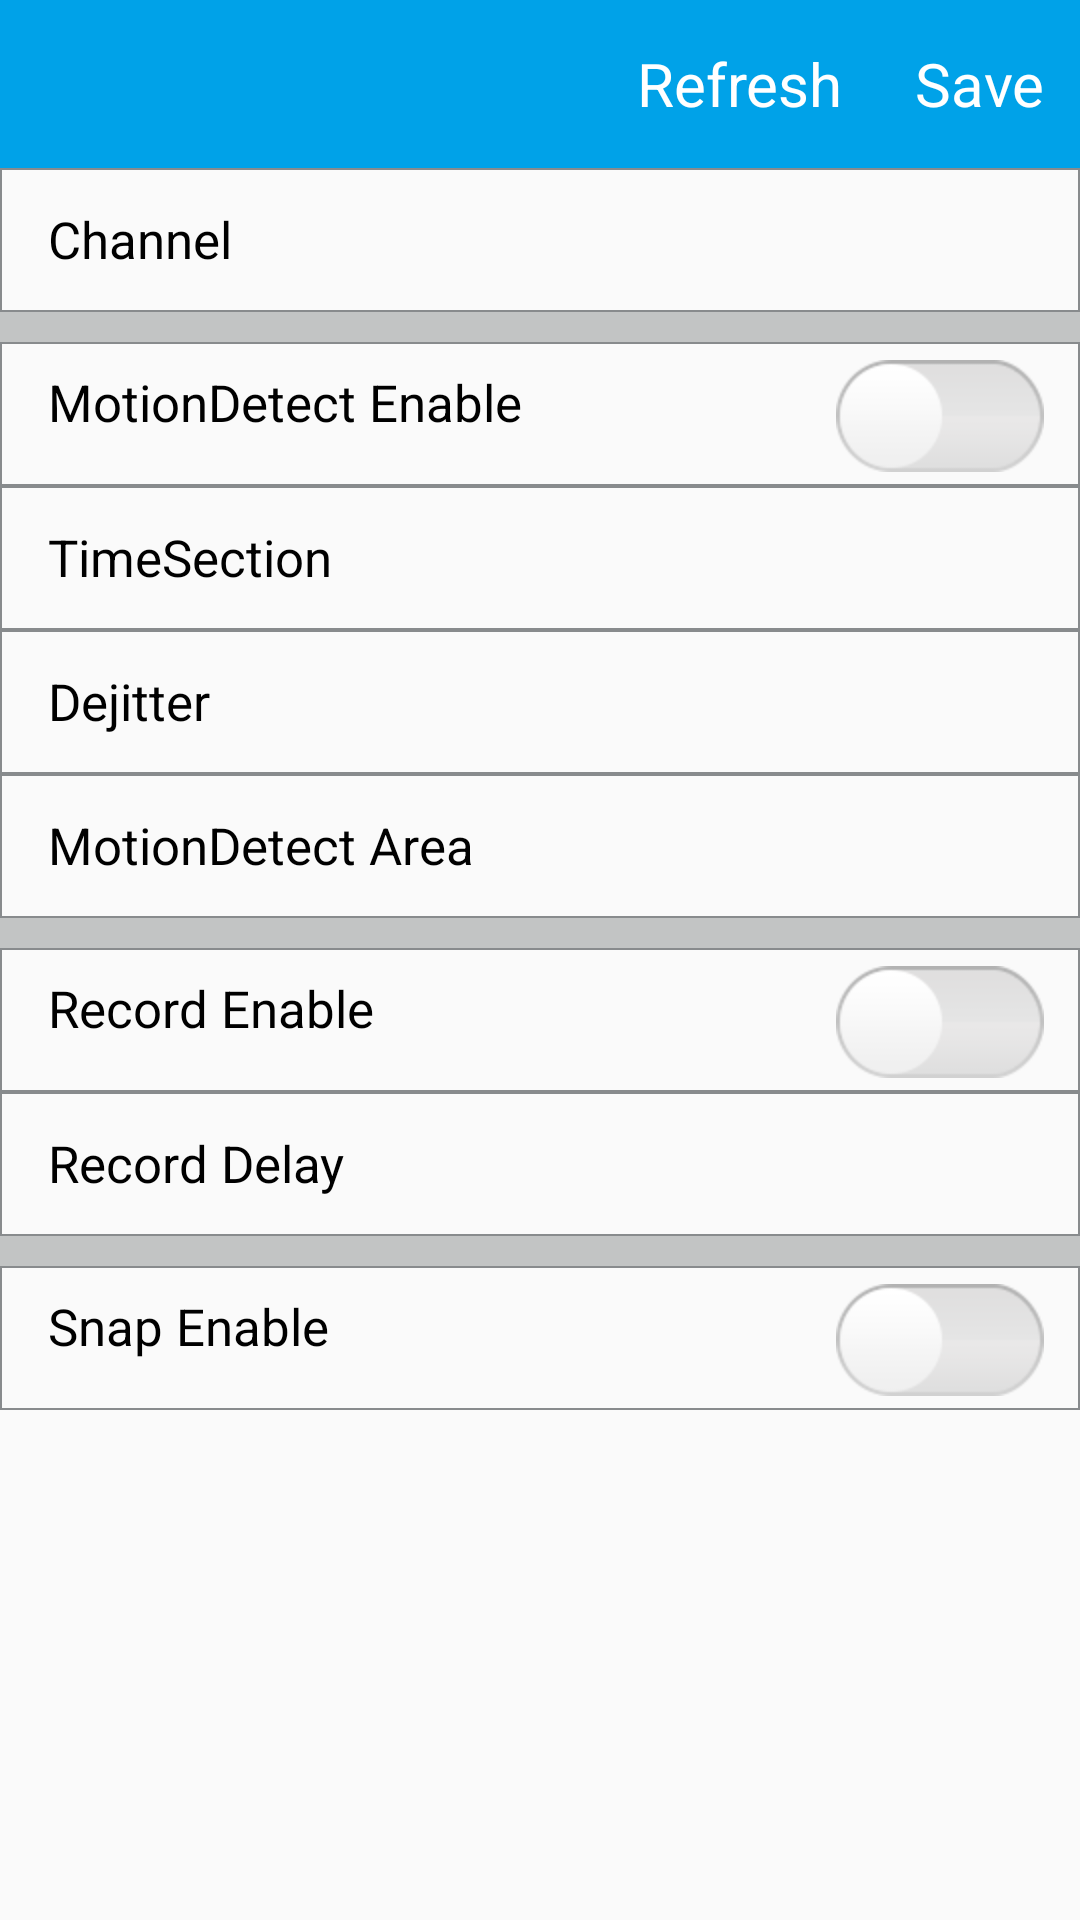

Icon click points for this 1080w x 1920h phone screenshot, format point (x, y):
on off: point (940, 416), point (940, 1022), point (940, 1340)
